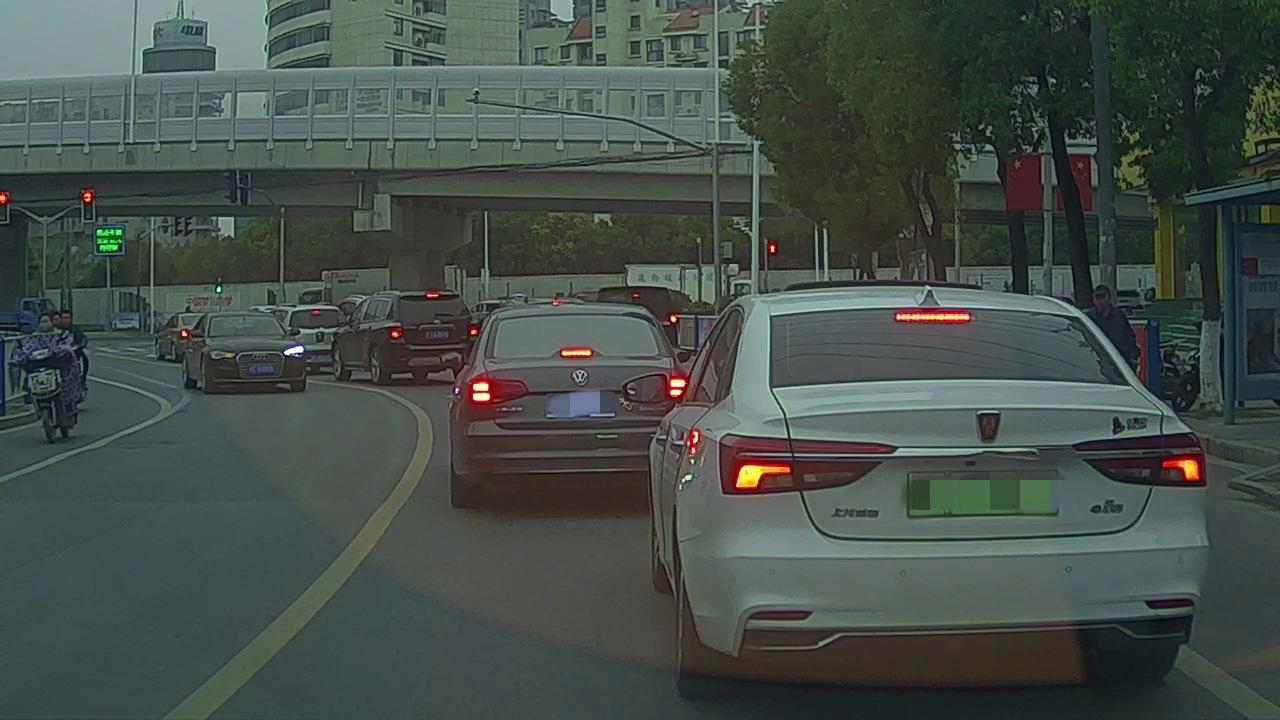traffic_light: (82, 192, 93, 220), (1, 193, 10, 221)
